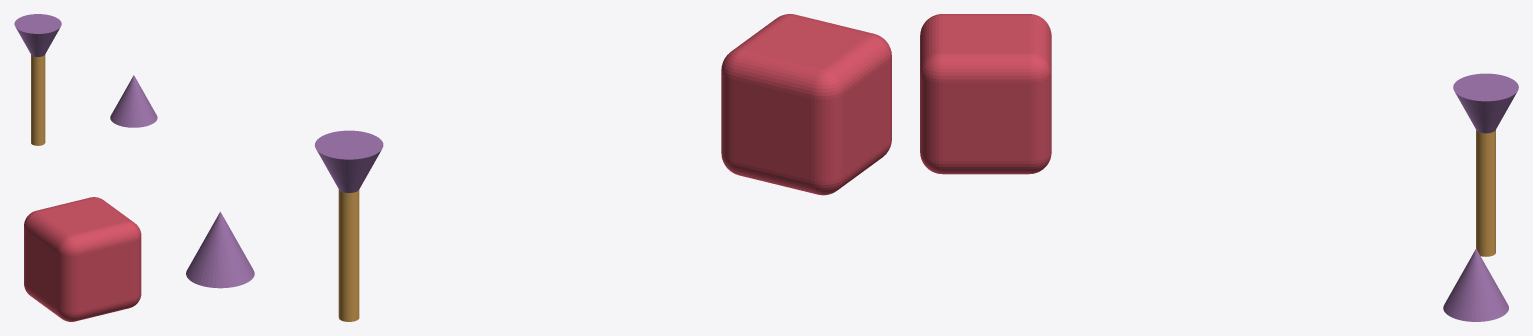
File: Dazzling Sango.glb
3 views of the same model, side by side, from view 1: azimuth 30°, elevation 25°; view 2: azimuth 150°, elevation 25°; view 3: azimuth 270°, elevation 25° (orthographic). The views are drawn at different scales.
Parts seen in each view (by area): view 1: Mesh_Mesh_head_geo.001_lambert2SG.001; view 2: Mesh_Mesh_head_geo.001_lambert2SG.001; view 3: Mesh_Mesh_head_geo.001_lambert2SG.001.
Part boxes in pixels (x1,y1,x2,y2): Mesh_Mesh_head_geo.001_lambert2SG.001: (14, 14, 157, 321); Mesh_Mesh_head_geo.001_lambert2SG.001: (186, 14, 891, 321); Mesh_Mesh_head_geo.001_lambert2SG.001: (920, 14, 1518, 321).
Size of the model in its own units: 0.141 by 0.0554 by 0.182.
